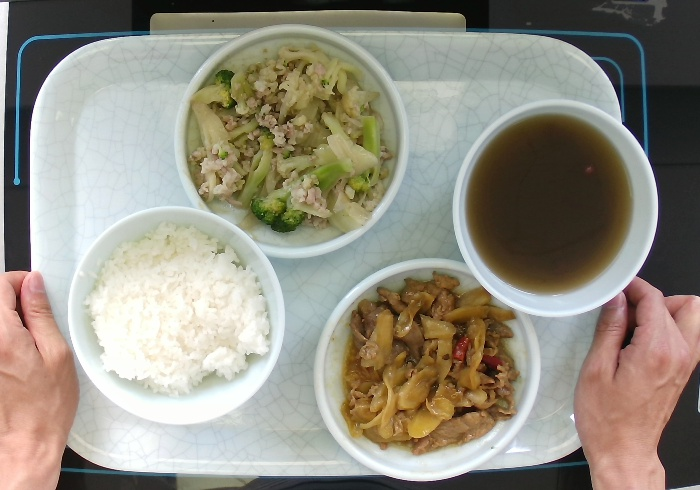JYsf-Fan_Wan: (65, 203, 288, 427), (451, 97, 662, 319)
JYsf-Xiao_Yuan_Pan: (171, 22, 412, 261), (309, 256, 543, 483)
